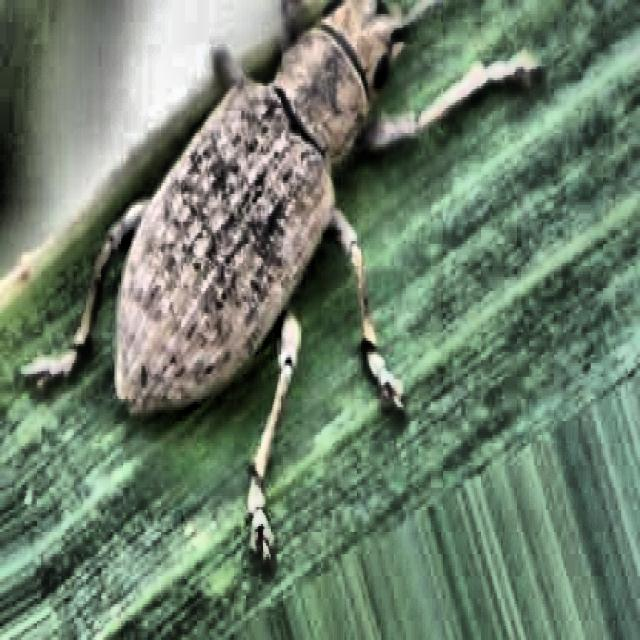Stink bug: (0, 0, 481, 516)
